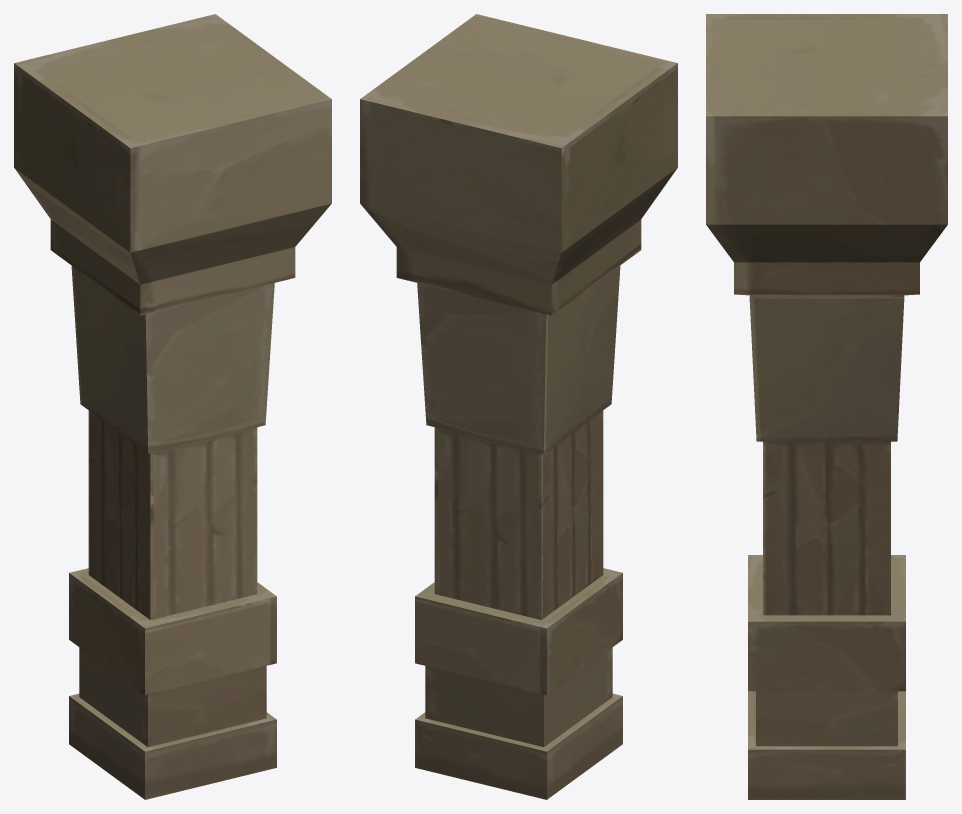
The model's file is WuJian02.FBX.
3 views of the same model, side by side, from view 1: azimuth 30°, elevation 25°; view 2: azimuth 150°, elevation 25°; view 3: azimuth 270°, elevation 25° (orthographic). The views are drawn at different scales.
Visible parts, largest first — view 1: WuJian02; view 2: WuJian02; view 3: WuJian02.
Part boxes in pixels (x1,y1,x2,y2): WuJian02: (14,14,331,799); WuJian02: (360,14,677,799); WuJian02: (706,14,947,799).
Bounding box in the file's own units: 46.45 × 149 × 46.45.
